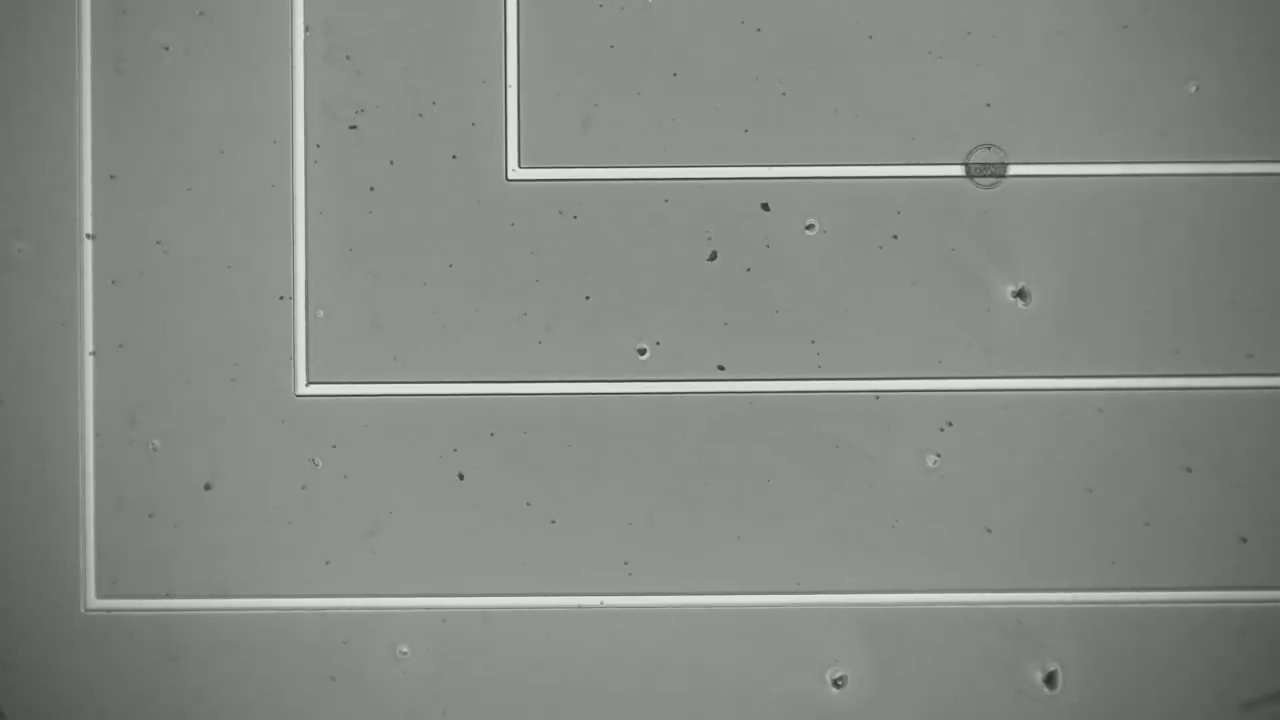gray_line: (947, 154, 1024, 184)
stains_enbedded: (72, 222, 99, 253)
